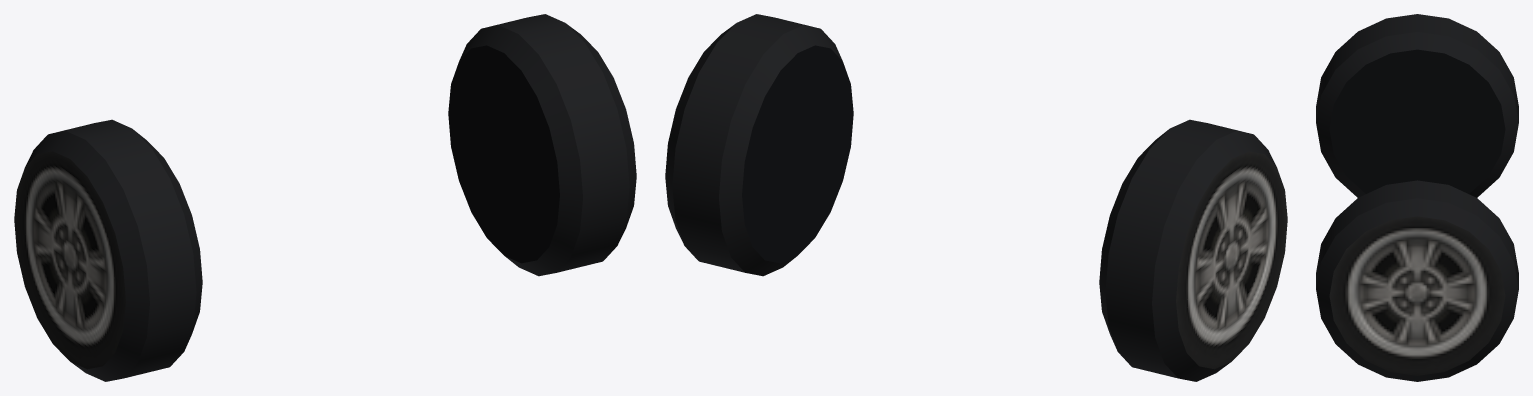
Rendered from longnose_71_wheels_r.obj.
The picture shows the model from 3 angles, left to right: view 1: azimuth 30°, elevation 25°; view 2: azimuth 150°, elevation 25°; view 3: azimuth 270°, elevation 25°; orthographic projection. The views are drawn at different scales.
Parts seen in each view (by area): view 1: longnose_71_wheels_r; view 2: longnose_71_wheels_r; view 3: longnose_71_wheels_r.
Part boxes in pixels (x1,y1,x2,y2): longnose_71_wheels_r: [14, 14, 636, 381]; longnose_71_wheels_r: [665, 14, 1287, 381]; longnose_71_wheels_r: [1316, 14, 1518, 381].
Bounding box in the file's own units: 1.59 × 0.693 × 0.693.
